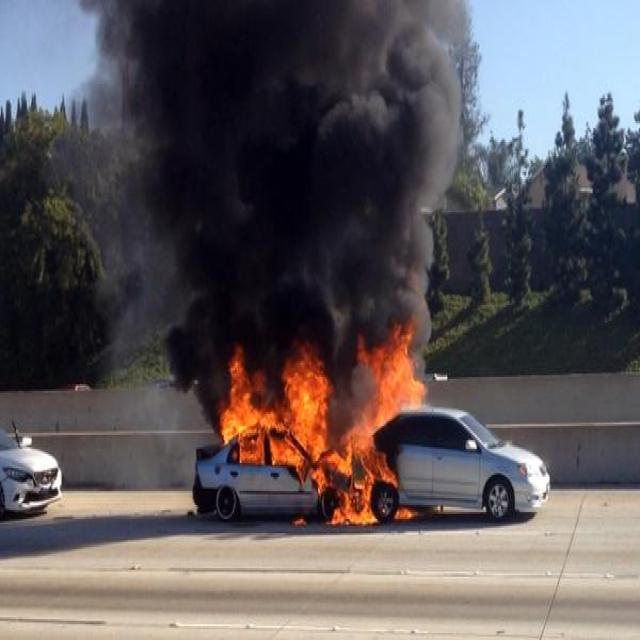Fire: (314, 307, 428, 527), (218, 328, 328, 468)
Smoke: (74, 0, 472, 423)
